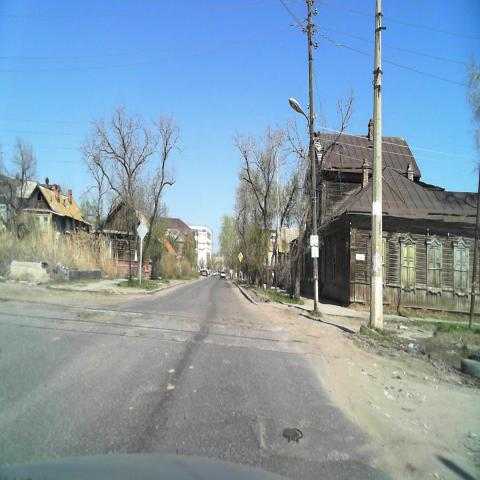2_1: (238, 252, 243, 262)
